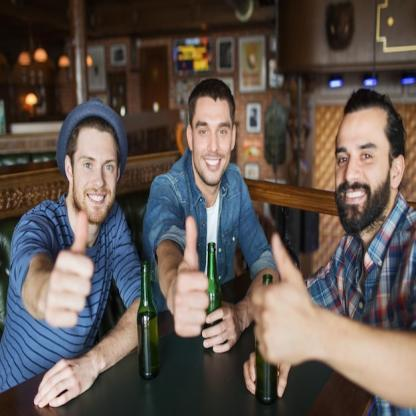thumb_up: (248, 230, 314, 368), (44, 209, 96, 332), (168, 212, 212, 341)
